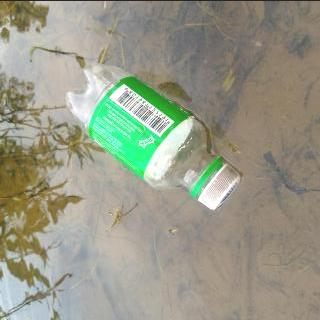bottle: (61, 60, 243, 210)
